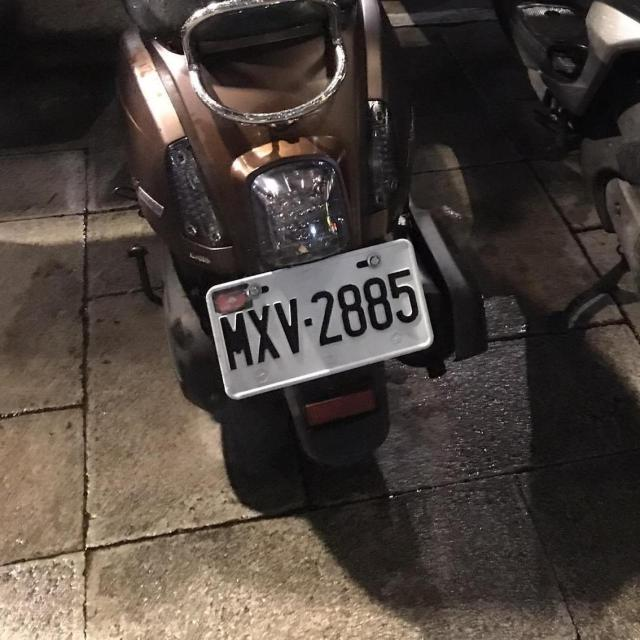W: (200, 235, 438, 400)
